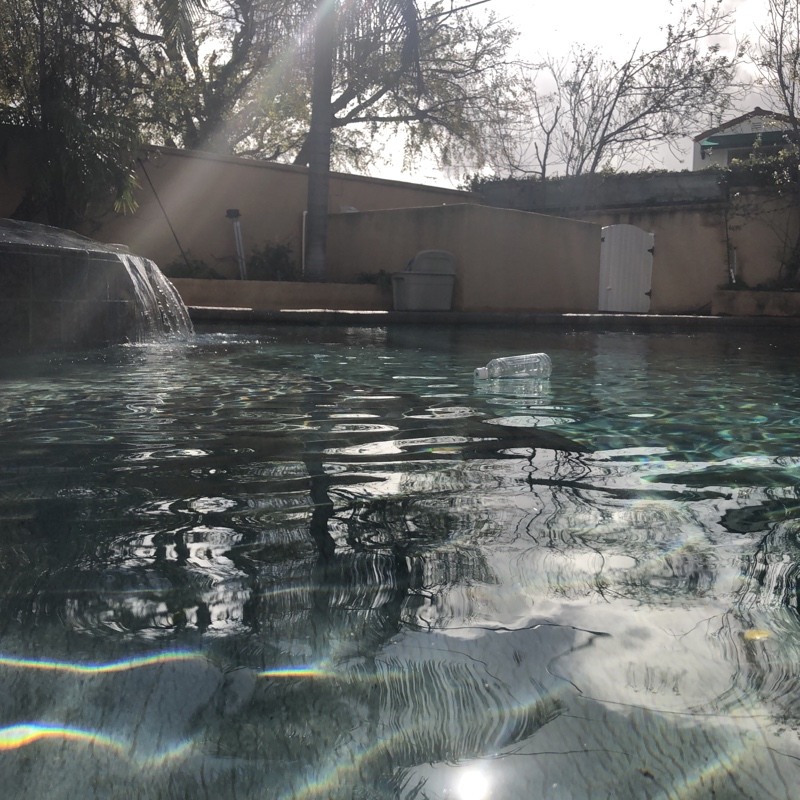Plastic Bottle: (472, 348, 553, 387)
